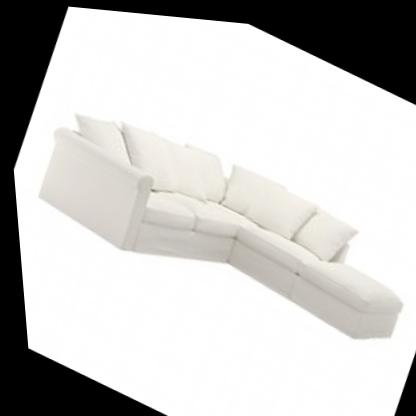Sofa: (5, 58, 416, 382)
